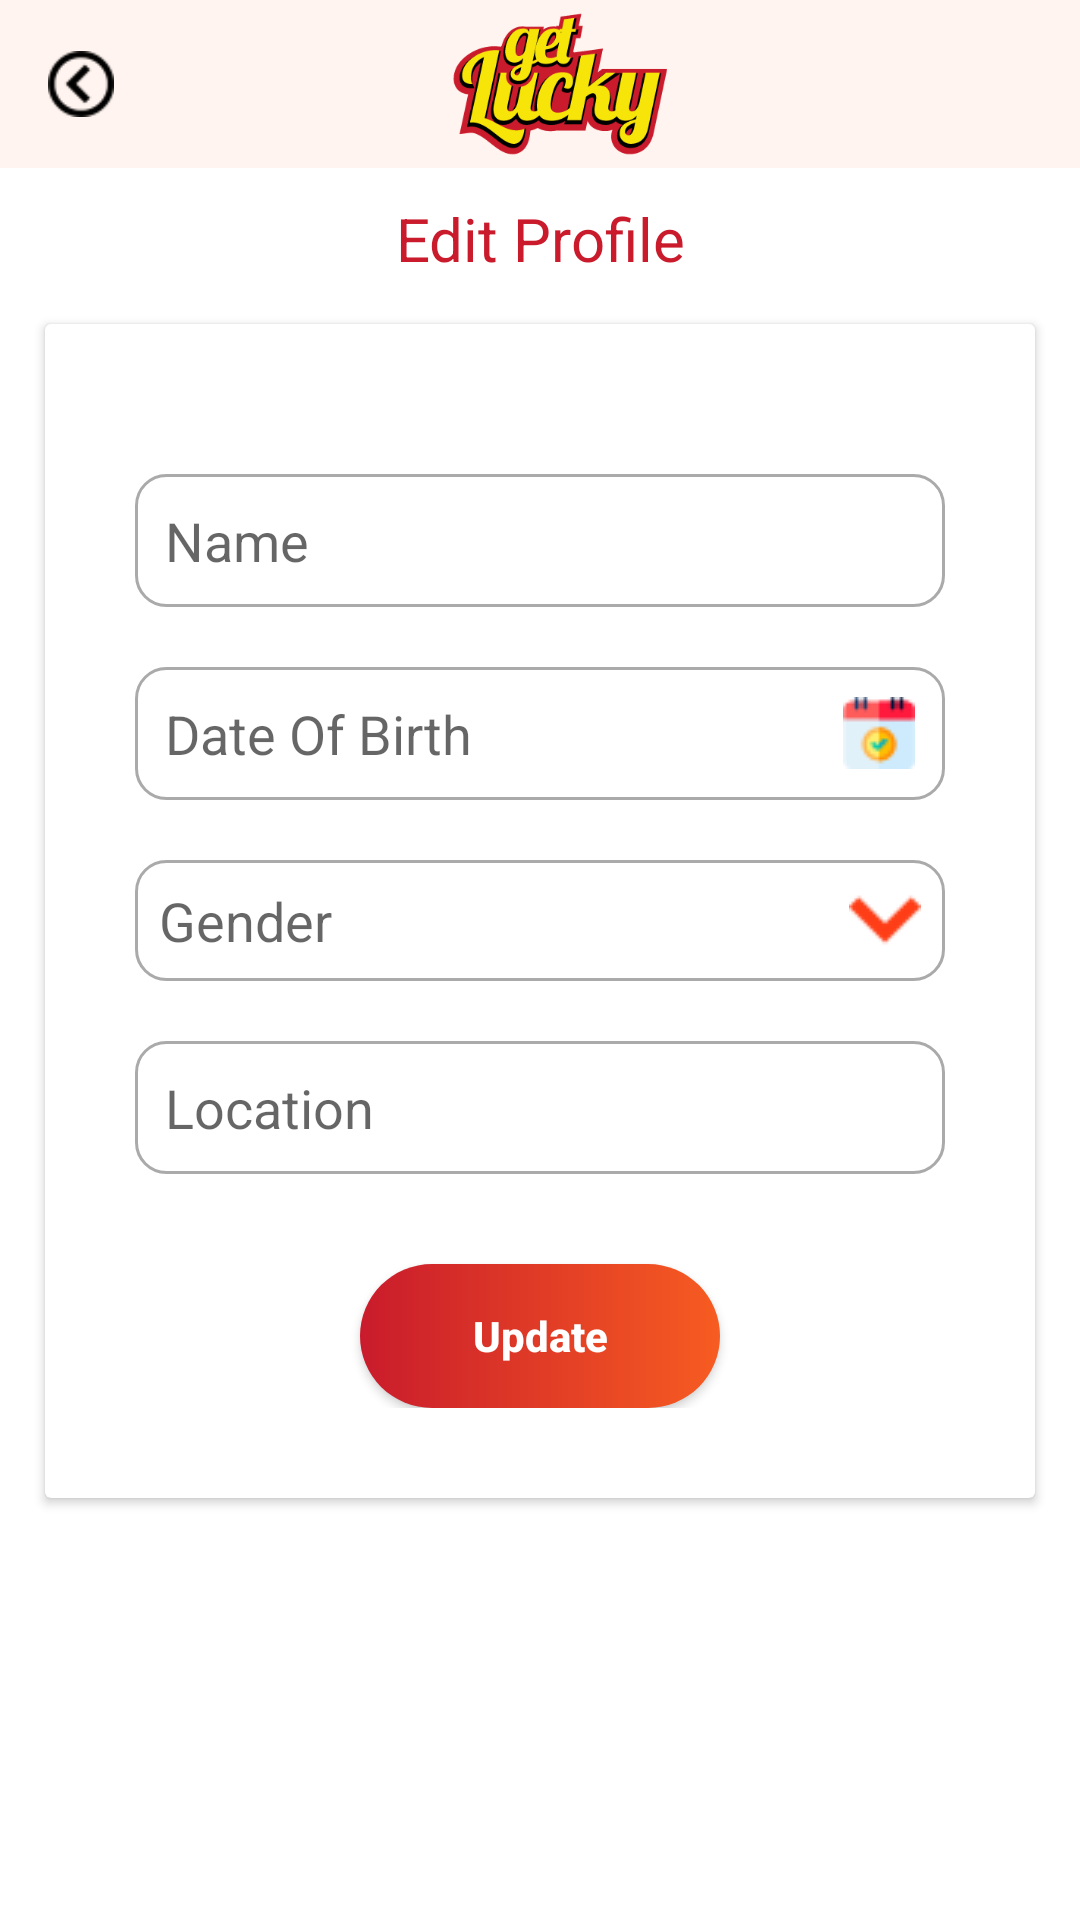

Icons on this 1080×1920 Android screen, each with the point to tap as (x=x, y=y):
back: (x=81, y=84)
